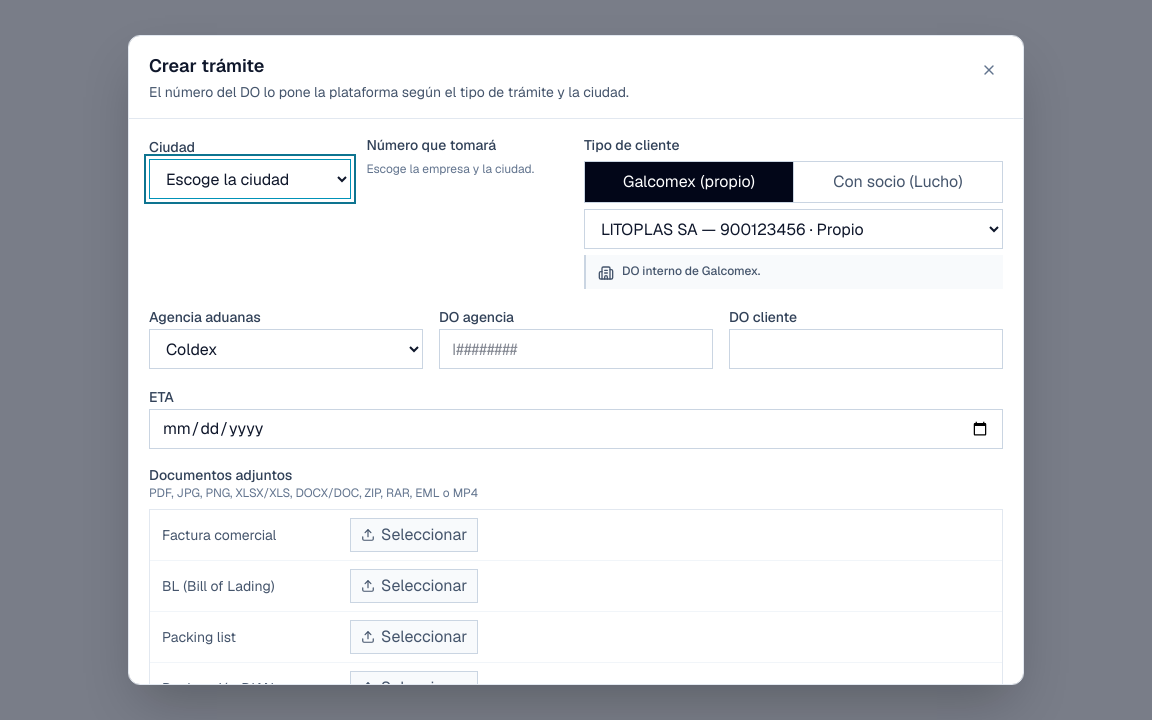
Crear DO — D1 tarifa vigente › OPERATIVO no ve botones de acción: solo el texto para pedirle a Camila
Select "LITOPLAS SA — 900123456 · Propio" in the dropdown named "clienteId" at [794, 229], box [584,209,1003,249]
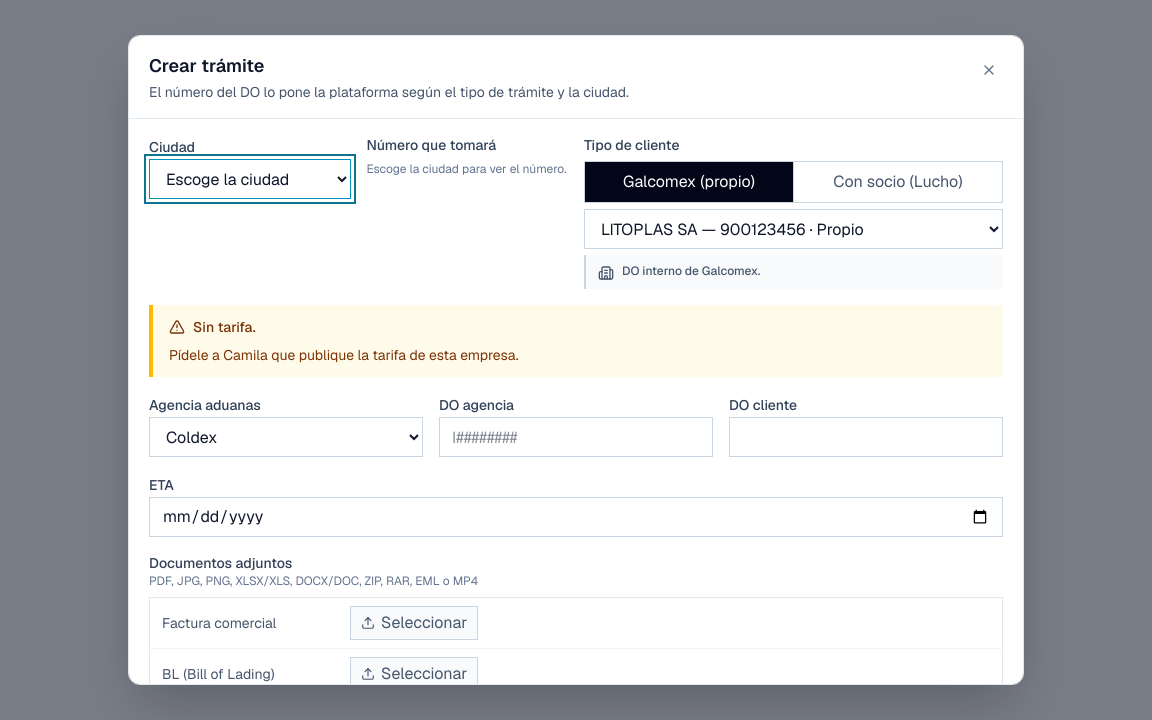
Result: the text "Pídele a Camila que publique la tarifa de esta empresa." is shown at [169,346,519,364]
